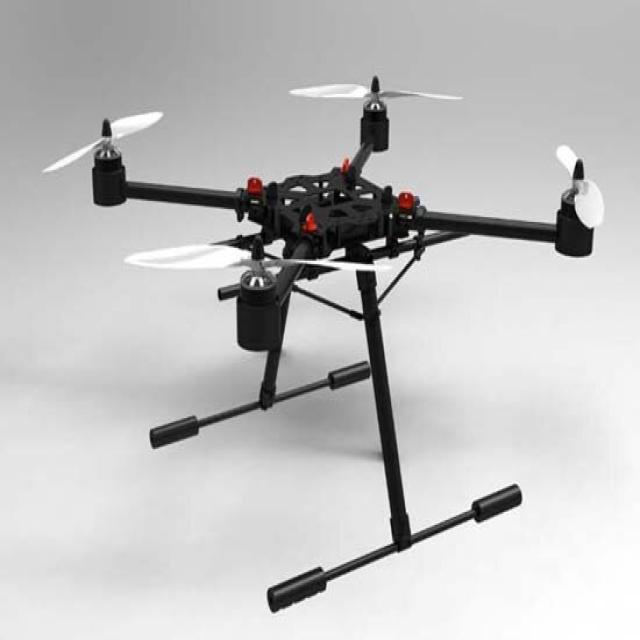drone: (68, 74, 640, 640)
